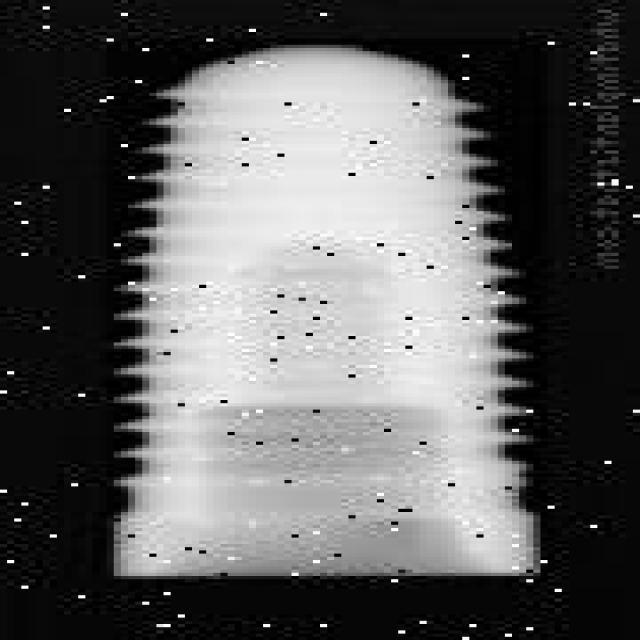Root canal filling: (102, 37, 548, 579)
